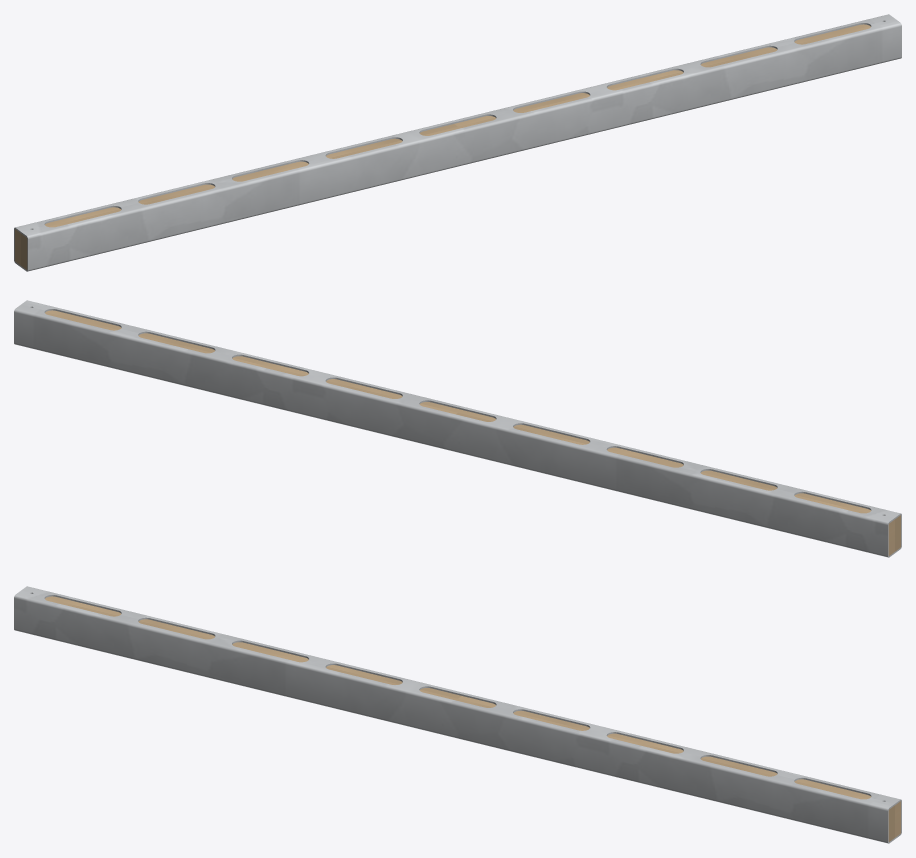
Rendered from steel-timber-secondary-beam.glb.
3 views of the same model, one above another, from view 1: azimuth 30°, elevation 25°; view 2: azimuth 150°, elevation 25°; view 3: azimuth 330°, elevation 25° (orthographic).
Parts seen in each view (by area): view 1: SteelCover, TimberCore; view 2: SteelCover, TimberCore; view 3: SteelCover, TimberCore.
Part boxes in pixels (<box>): SteelCover: <box>14,14,901,271</box>; TimberCore: <box>15,24,870,269</box>; SteelCover: <box>14,300,901,557</box>; TimberCore: <box>45,310,900,555</box>; SteelCover: <box>14,586,901,843</box>; TimberCore: <box>45,596,900,841</box>.
Size of the model in its own units: 1.8 by 0.0701 by 0.0501.
2 materials, 2 textured.
